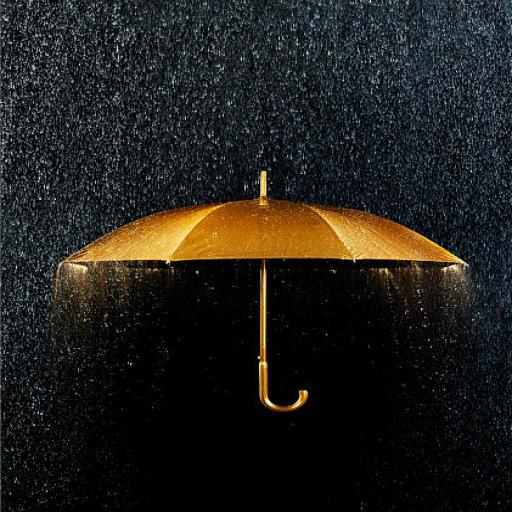guarda_chuva: (53, 169, 470, 412)
